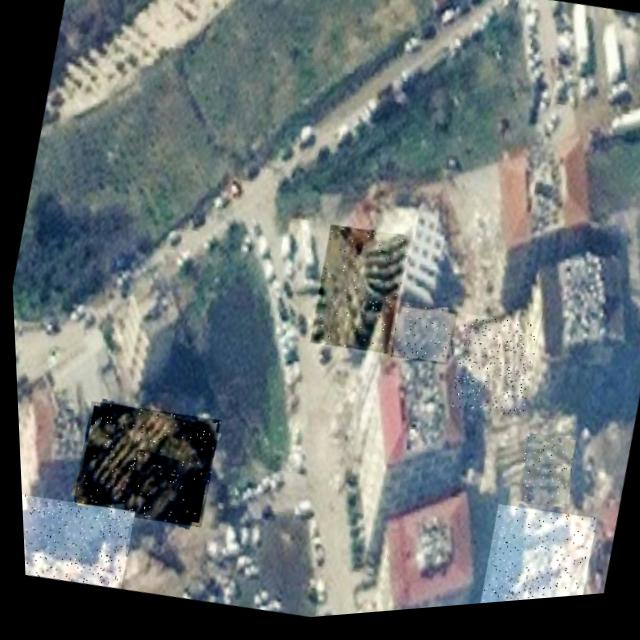Rubble: (63, 394, 220, 538), (302, 225, 410, 364), (464, 505, 593, 611), (17, 485, 132, 596), (442, 317, 538, 430), (509, 438, 575, 521), (384, 306, 456, 376)
